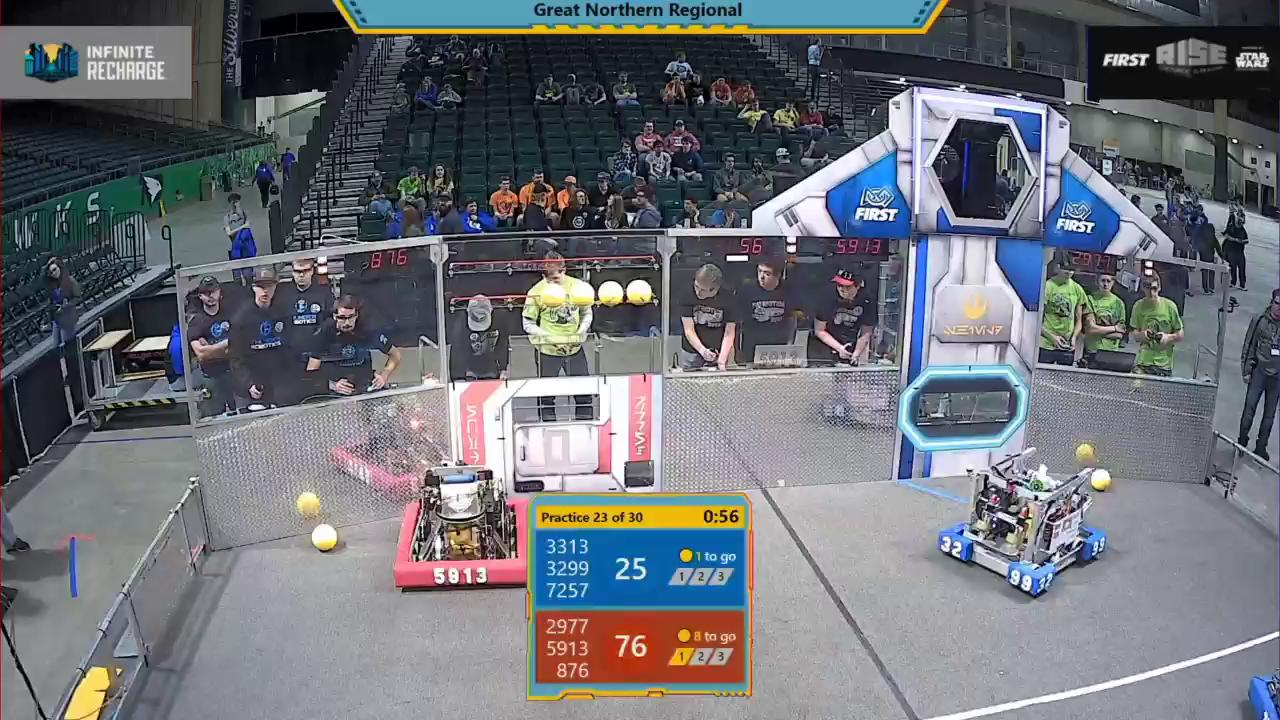robot: (935, 451, 1105, 596), (394, 459, 531, 587)
